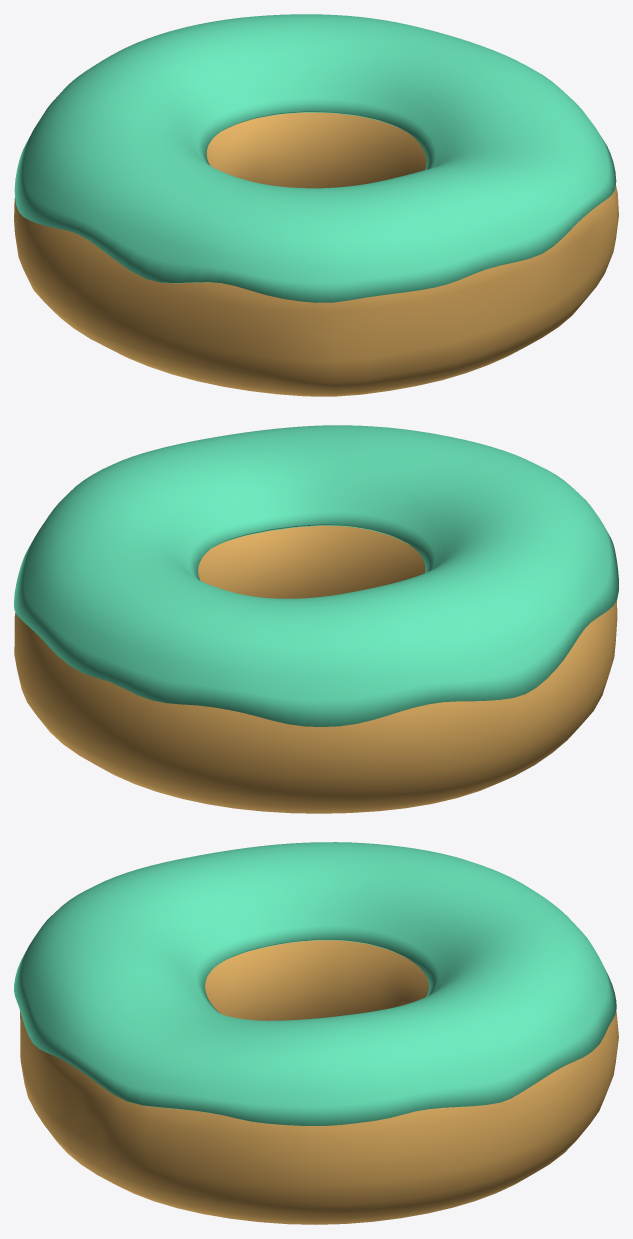
The picture shows the model from 3 angles, top to bottom: view 1: azimuth 30°, elevation 25°; view 2: azimuth 150°, elevation 25°; view 3: azimuth 270°, elevation 25°; orthographic projection. The views are drawn at different scales.
Visible parts, largest first — view 1: Object_94; view 2: Object_94; view 3: Object_94.
Boxes of the visible parts, box(x1,y1,x2,y2) form: Object_94: box(14, 14, 618, 396); Object_94: box(14, 425, 618, 813); Object_94: box(14, 842, 618, 1224).
Bounding box in the file's own units: 59.11 × 21.49 × 59.62.
